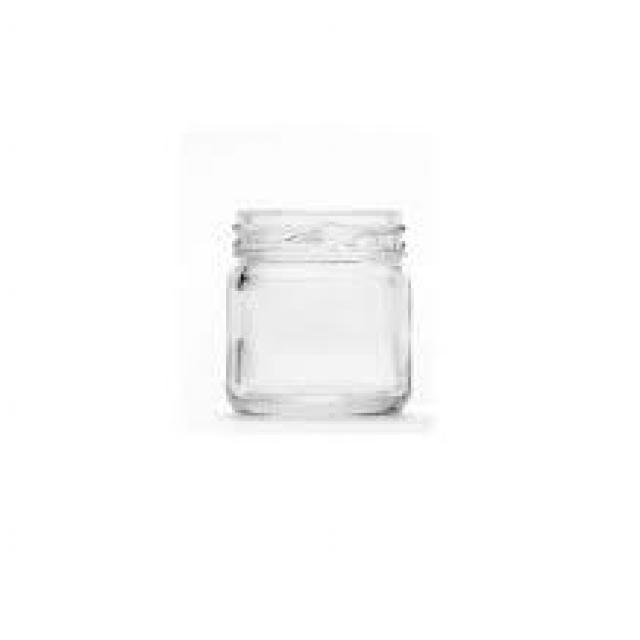non-organic waste: (220, 202, 420, 424)
